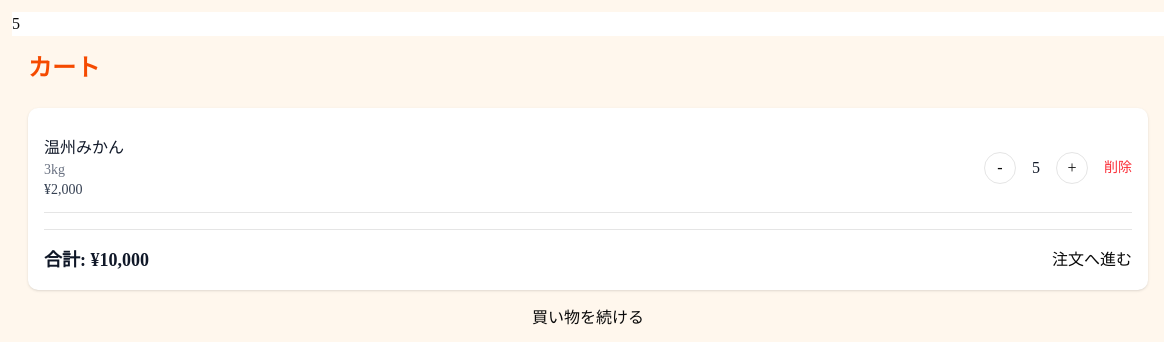
Scenario: CartContent › 数量更新時のカウント更新 › 数量減少時にカウントが差分だけ更新される
The width and height of the screenshot is (1164, 342).
Click the button "-".
click(1000, 168)  # box [984, 152, 1016, 184]
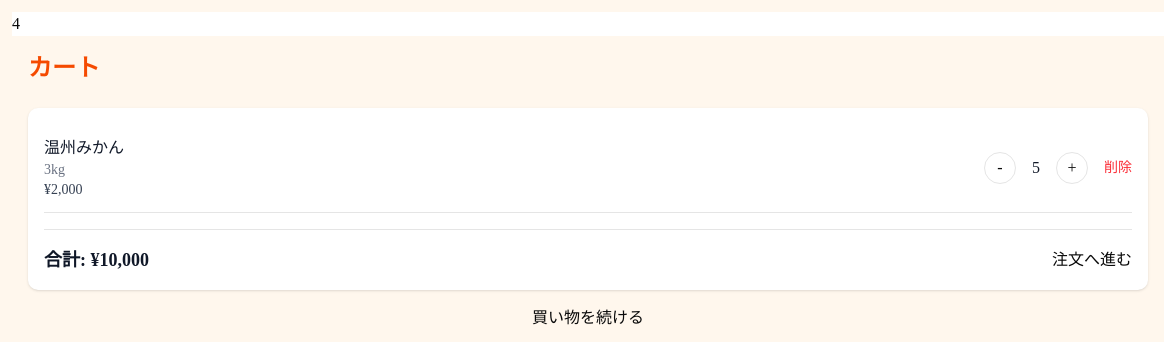
Expected: the text with test id "cart-count" reads "4", [12, 15, 20, 32]
